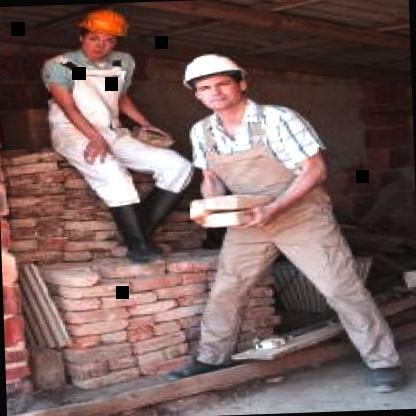helmet: (176, 44, 255, 116), (75, 6, 130, 58)
